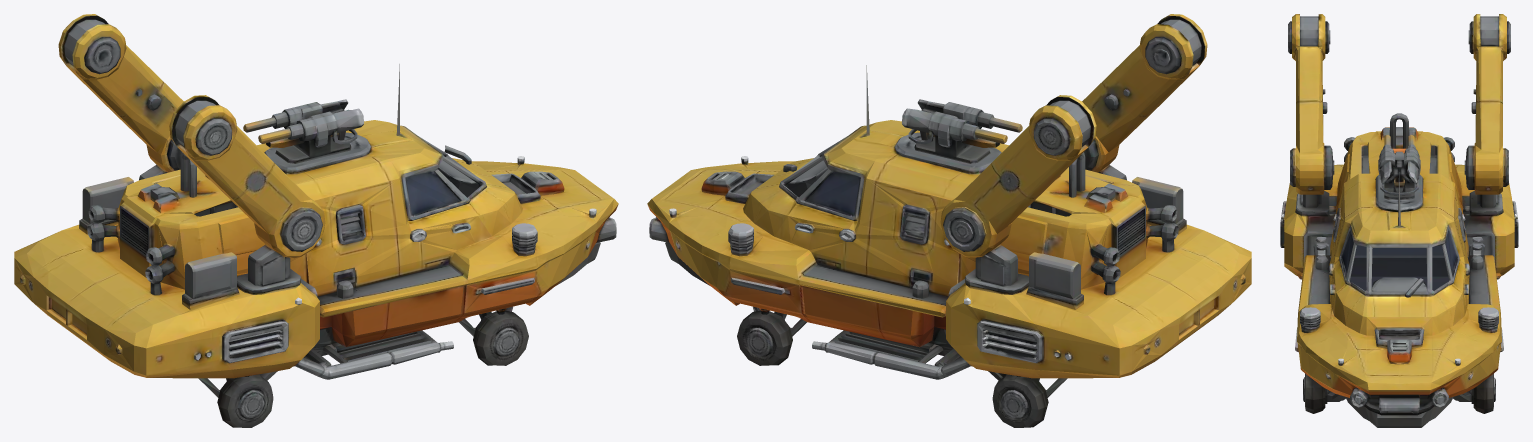
Rendered from mariner_LOD0.glb.
The picture shows the model from 3 angles, left to right: view 1: azimuth 30°, elevation 25°; view 2: azimuth 150°, elevation 25°; view 3: azimuth 270°, elevation 25°; orthographic projection. The views are drawn at different scales.
Parts seen in each view (by area): view 1: mariner_LOD0; view 2: mariner_LOD0; view 3: mariner_LOD0.
Part boxes in pixels (<box>): mariner_LOD0: <box>14,14,618,427</box>; mariner_LOD0: <box>647,14,1251,427</box>; mariner_LOD0: <box>1280,14,1518,427</box>.
Bounding box in the file's own units: 1 × 0.6067 × 0.4755.
Materials: 1 (1 with a texture image).
